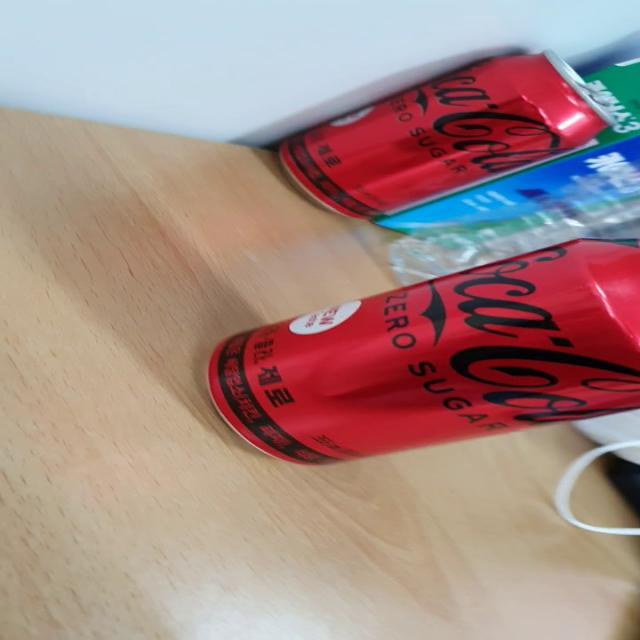coca-cola: (198, 234, 640, 471), (252, 41, 628, 229)
